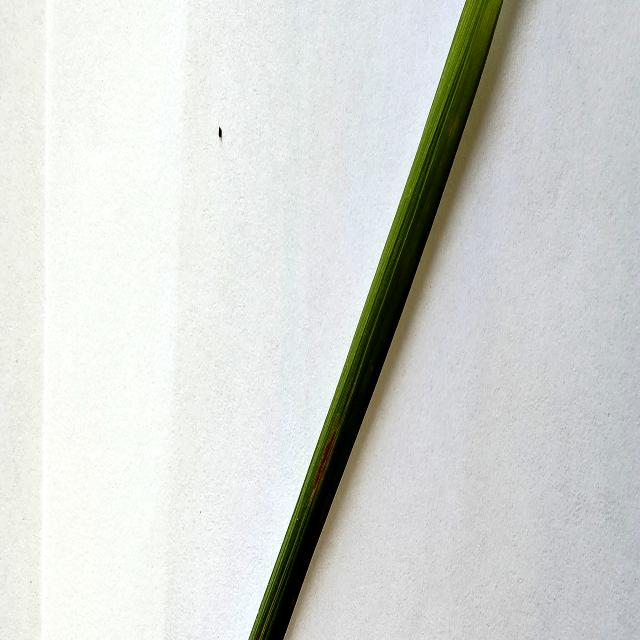NBS: (294, 526, 318, 602), (313, 431, 338, 499), (258, 637, 259, 640)
